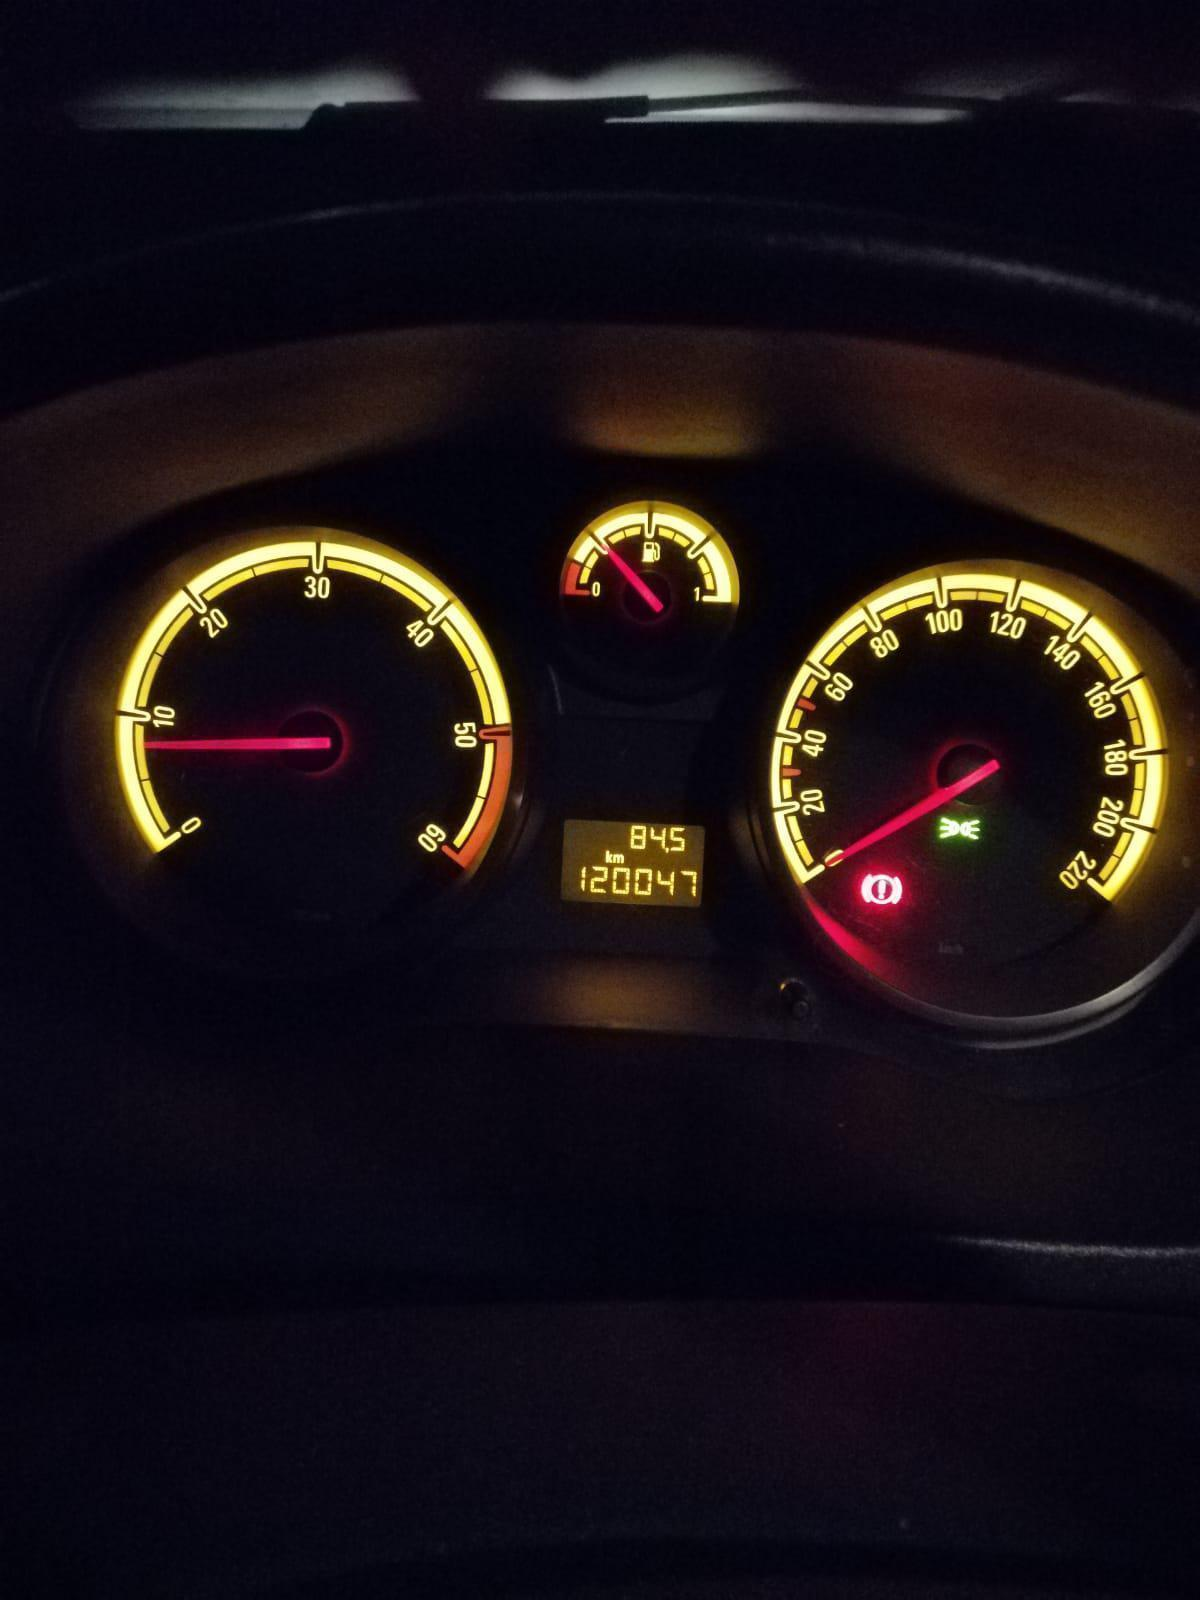,: (666, 847, 669, 853)
0: (611, 866, 630, 894), (633, 868, 653, 894)
1: (579, 866, 586, 892)
2: (589, 866, 608, 893)
4: (655, 869, 674, 896), (650, 826, 666, 849)
5: (669, 826, 684, 850)
7: (679, 871, 697, 896)
8: (630, 825, 645, 849)
X: (613, 853, 624, 863), (605, 849, 613, 863)
odometer: (557, 816, 708, 911)
